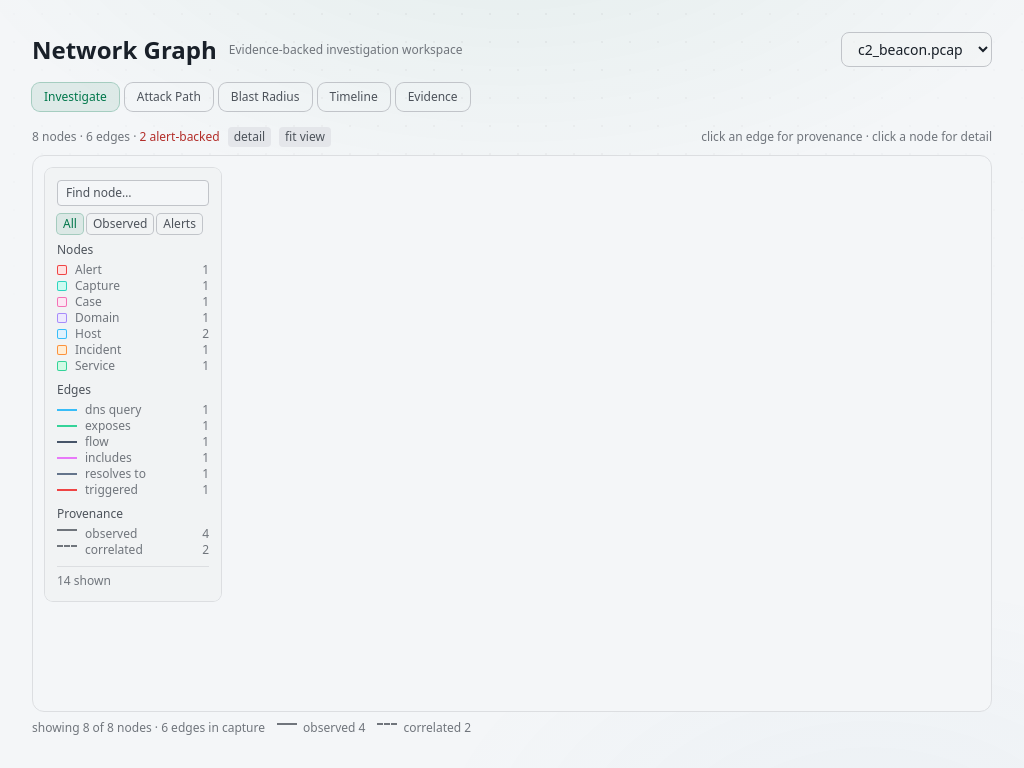
it: GraphPage — investigation workspace › search box + quick filters › search filters nodes and locating a result opens the detail panel
In the field named "Search graph nodes": (133, 193) [57,180,209,206], type "evil"
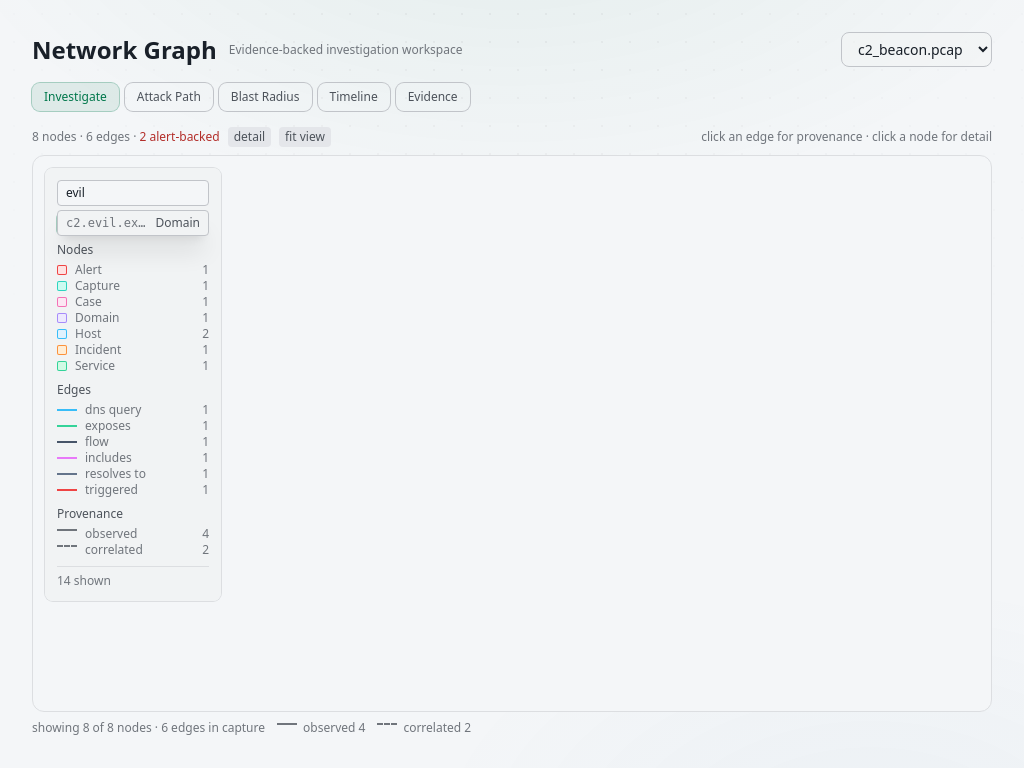
Now the option "c2.evil.example domain" is shown, box [58,211,208,235]
no-match state
Replace the text in the field named "Search graph nodes" with "zzz-no-such-node": (133, 193) [57,180,209,206]
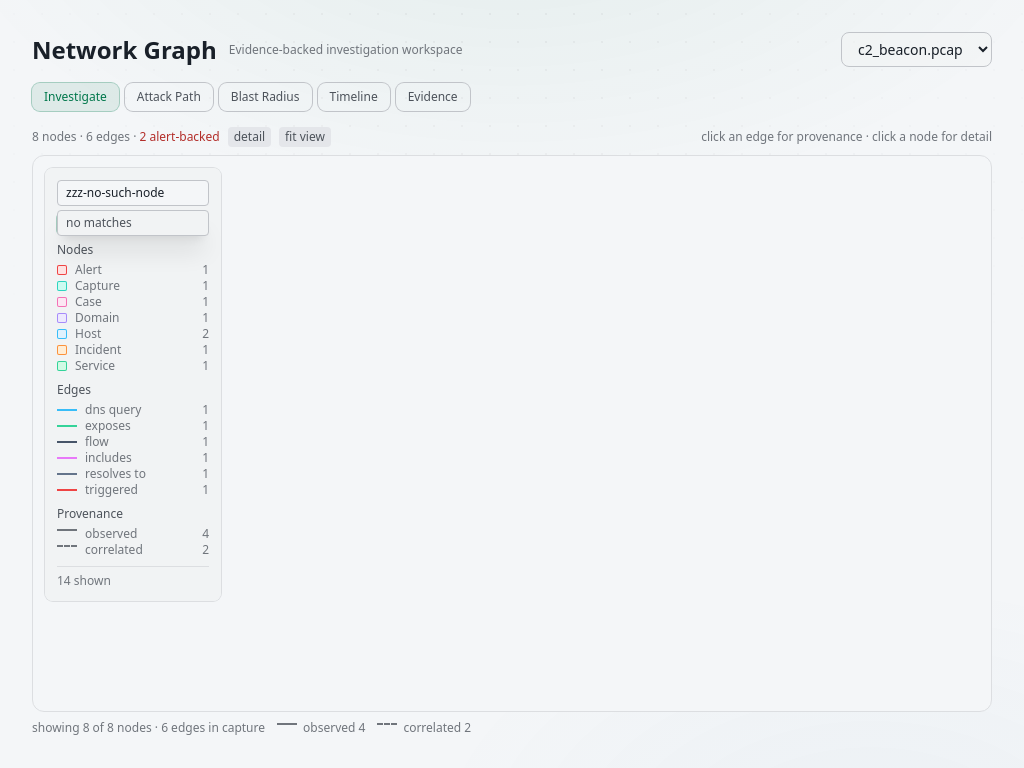
Now the text "no matches" is shown, box [66,214,132,231]
type an ip that matches the host (highest importance rank first)
Replace the text in the field named "Search graph nodes" with "192.": (133, 193) [57,180,209,206]
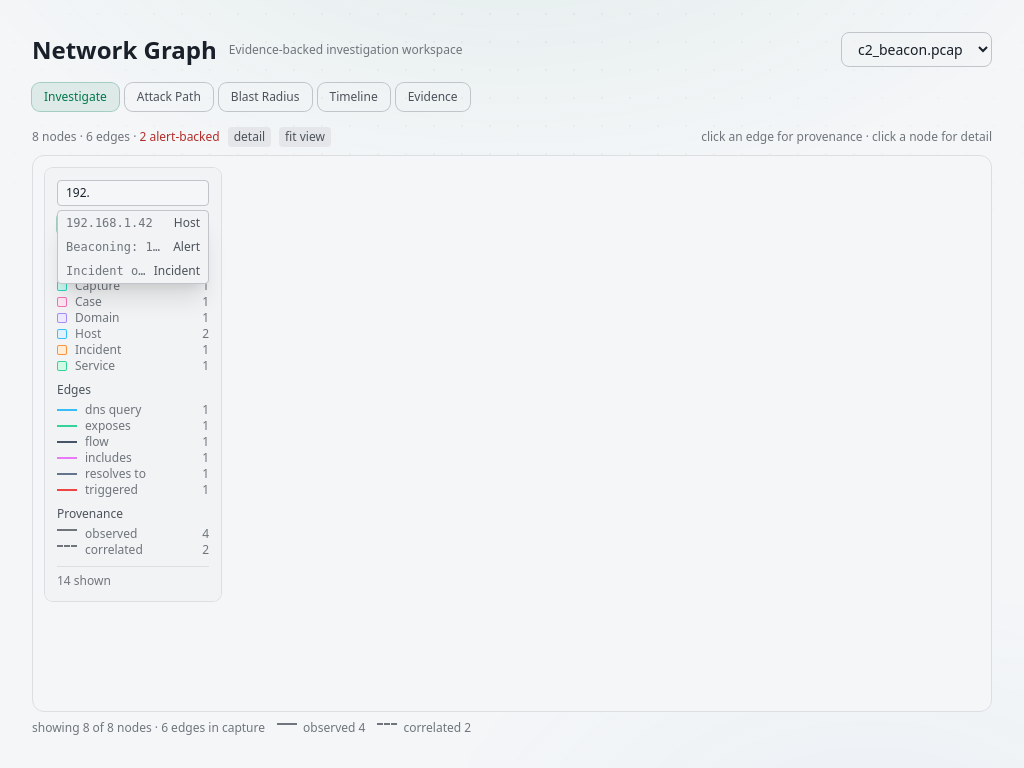
Now the text "192.168.1.42" is shown
Click the text "192.168.1.42": click(116, 223) [66,215,166,231]
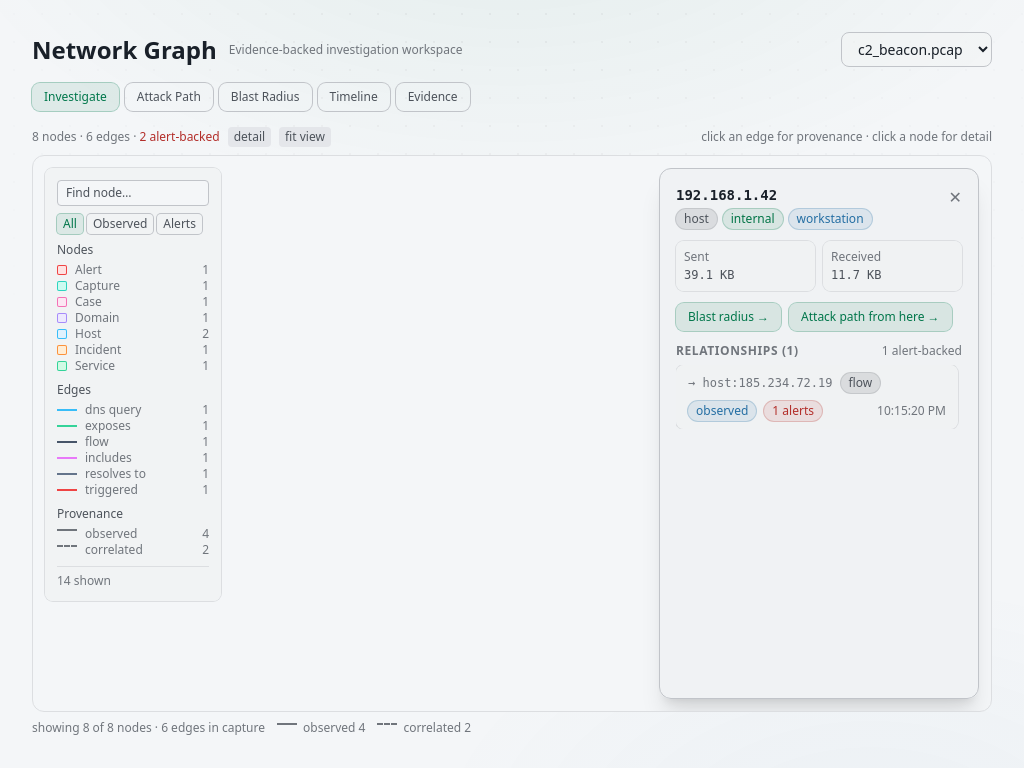
Now the text "192.168.1.42" is shown, box [676,187,777,203]
Now the field named "Search graph nodes" is empty, box [57,180,209,206]
Now the text "workstation" is shown, box [789,209,872,229]
